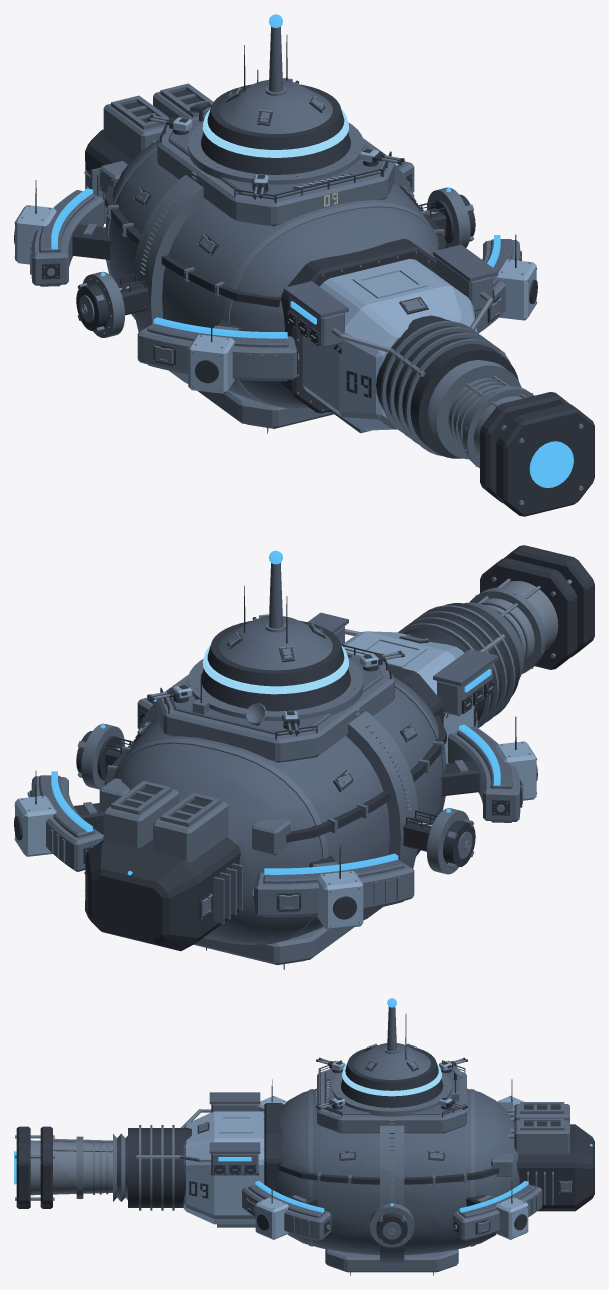
The model's file is warden_wreck.glb.
3 renders of one model, top to bottom at view 1: azimuth 30°, elevation 25°; view 2: azimuth 150°, elevation 25°; view 3: azimuth 270°, elevation 25°, orthographic. The views are drawn at different scales.
Parts seen in each view (by area): view 1: warden_wreck_00, warden_wreck_10, warden_wreck_11, warden_wreck_06, warden_wreck_01, warden_wreck_17, warden_wreck_13, warden_wreck_14, warden_wreck_16, warden_wreck_07, warden_wreck_03, warden_wreck_05 (+5 smaller); view 2: warden_wreck_07, warden_wreck_03, warden_wreck_06, warden_wreck_21, warden_wreck_00, warden_wreck_01, warden_wreck_10, warden_wreck_02, warden_wreck_13, warden_wreck_17, warden_wreck_15, warden_wreck_16 (+5 smaller); view 3: warden_wreck_15, warden_wreck_11, warden_wreck_02, warden_wreck_14, warden_wreck_08, warden_wreck_21, warden_wreck_01, warden_wreck_05, warden_wreck_12, warden_wreck_19, warden_wreck_17, warden_wreck_07 (+5 smaller).
Boxes of the visible parts, x1,y1,x2,y2 form: warden_wreck_00: (145, 139, 325, 328); warden_wreck_10: (274, 252, 421, 413); warden_wreck_11: (276, 104, 438, 258); warden_wreck_06: (14, 178, 166, 337); warden_wreck_01: (387, 323, 559, 459); warden_wreck_17: (464, 396, 594, 516); warden_wreck_13: (137, 305, 301, 393); warden_wreck_14: (357, 243, 498, 339); warden_wreck_16: (226, 14, 338, 150); warden_wreck_07: (121, 69, 309, 201); warden_wreck_03: (23, 104, 144, 226); warden_wreck_05: (431, 227, 537, 333); warden_wreck_07: (176, 642, 357, 813); warden_wreck_03: (89, 799, 334, 951); warden_wreck_06: (296, 763, 475, 929); warden_wreck_21: (85, 747, 252, 917); warden_wreck_00: (341, 645, 447, 820); warden_wreck_01: (411, 558, 558, 707); warden_wreck_10: (387, 635, 498, 755); warden_wreck_02: (14, 770, 133, 933); warden_wreck_13: (436, 716, 537, 822); warden_wreck_17: (480, 545, 594, 673); warden_wreck_15: (51, 645, 210, 786); warden_wreck_16: (211, 550, 342, 658); warden_wreck_15: (361, 1081, 492, 1225); warden_wreck_11: (269, 1060, 390, 1179); warden_wreck_02: (438, 1145, 592, 1248); warden_wreck_14: (160, 1115, 282, 1207); warden_wreck_08: (321, 1160, 474, 1247); warden_wreck_21: (479, 1101, 594, 1195); warden_wreck_01: (43, 1125, 177, 1198); warden_wreck_05: (242, 1162, 333, 1241); warden_wreck_12: (306, 1221, 452, 1275); warden_wreck_19: (113, 1153, 226, 1227); warden_wreck_17: (14, 1126, 89, 1208); warden_wreck_07: (406, 1043, 496, 1118).
Bounding box in the file's own units: 5.45 × 5.25 × 10.45.
